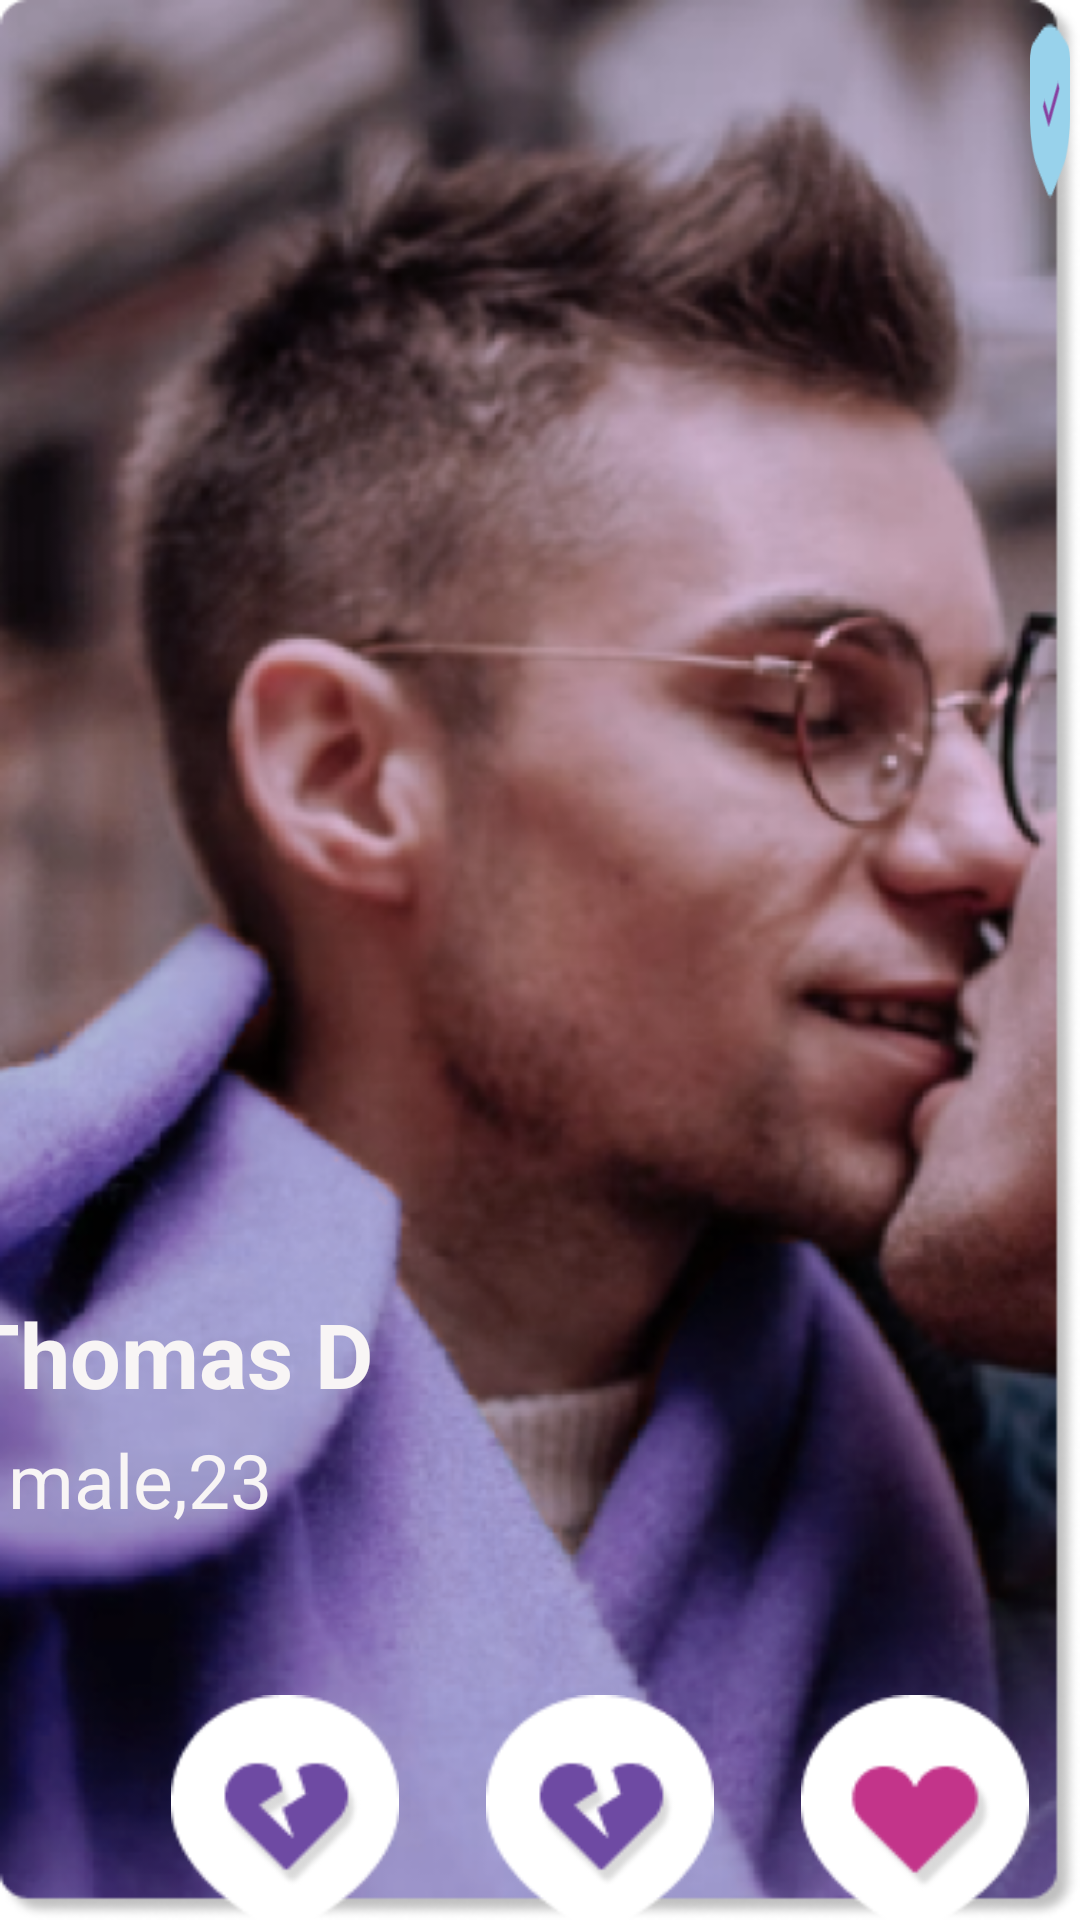

Icon click points for this 1080×1920 phone screenshot, format point (x, y):
profileverified: point (1050, 108)
redlove: point (915, 1807)
